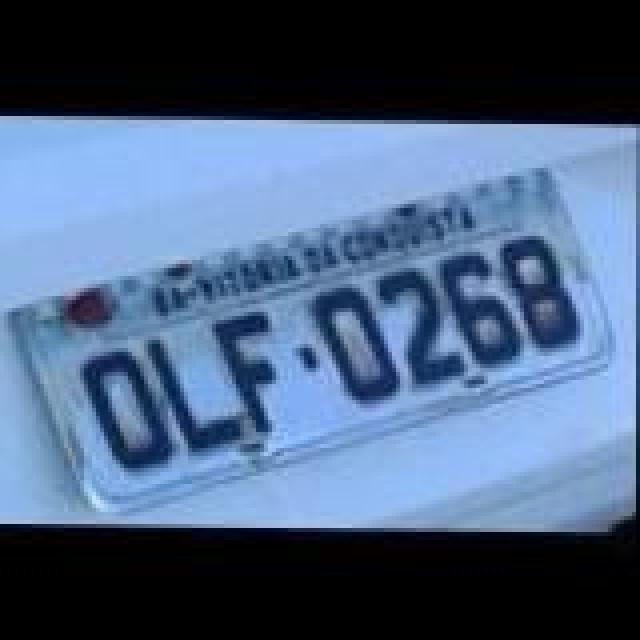2: (374, 262, 470, 386)
6: (444, 250, 528, 370)
8: (500, 224, 584, 348)
F: (212, 304, 280, 436)
L: (154, 334, 250, 454)
O: (80, 346, 172, 474), (310, 284, 406, 404)
